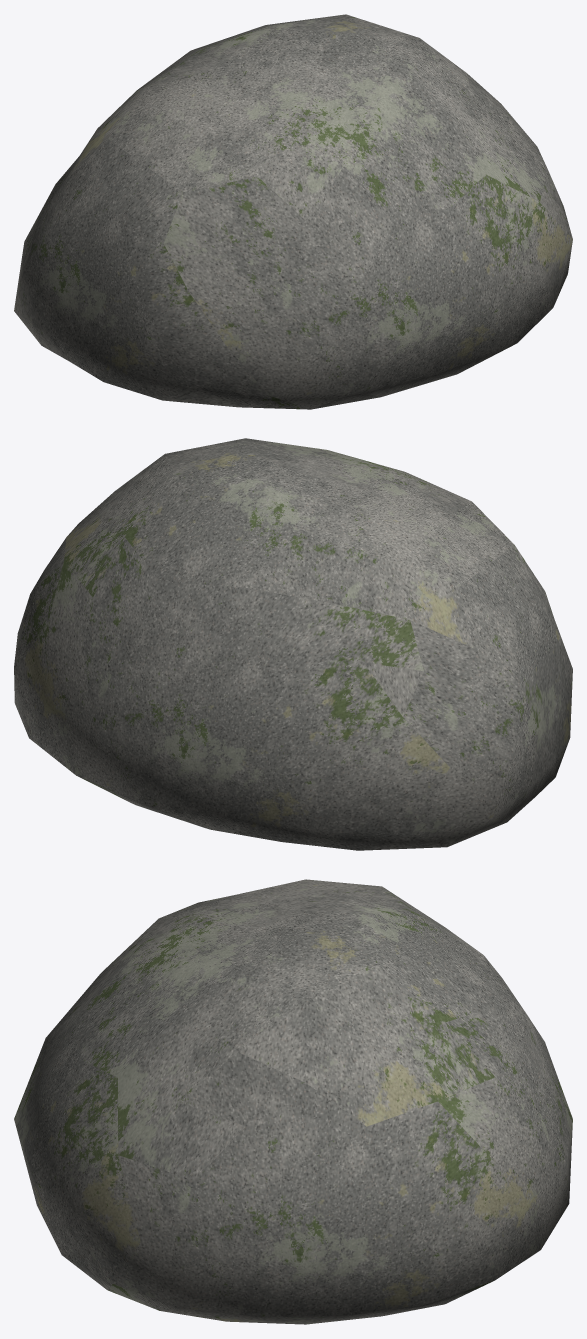
File: rock_small.glb
3 renders of one model, top to bottom at view 1: azimuth 30°, elevation 25°; view 2: azimuth 150°, elevation 25°; view 3: azimuth 270°, elevation 25°, orthographic. The views are drawn at different scales.
Parts seen in each view (by area): view 1: rock_small; view 2: rock_small; view 3: rock_small.
Part boxes in pixels (x1=…): rock_small: x1=14, y1=14, x2=572, y2=409; rock_small: x1=14, y1=438, x2=572, y2=850; rock_small: x1=14, y1=879, x2=572, y2=1324.
Size of the model in its own units: 1.21 by 0.706 by 1.07.
Materials: 1 (1 with a texture image).
